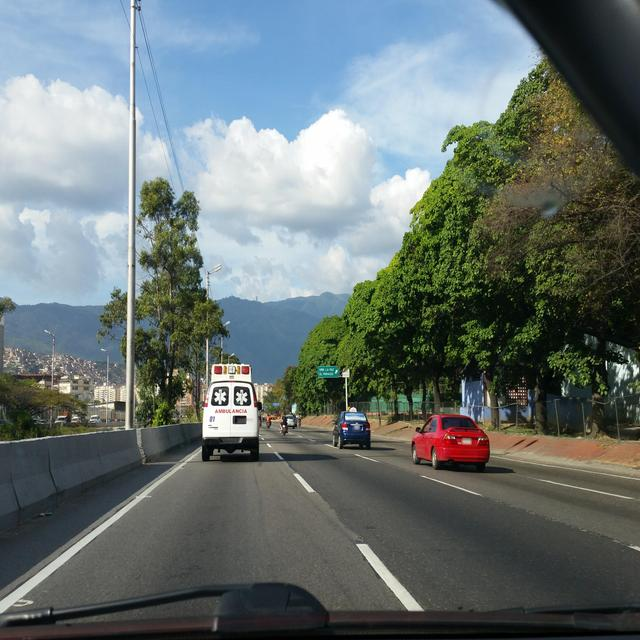Barrier: (0, 422, 201, 530), (70, 422, 124, 427)
Car: (201, 363, 296, 461), (411, 413, 489, 471), (332, 407, 370, 449), (34, 411, 100, 423)
Vegetation: (0, 373, 96, 440), (0, 294, 16, 320), (108, 374, 125, 383)
